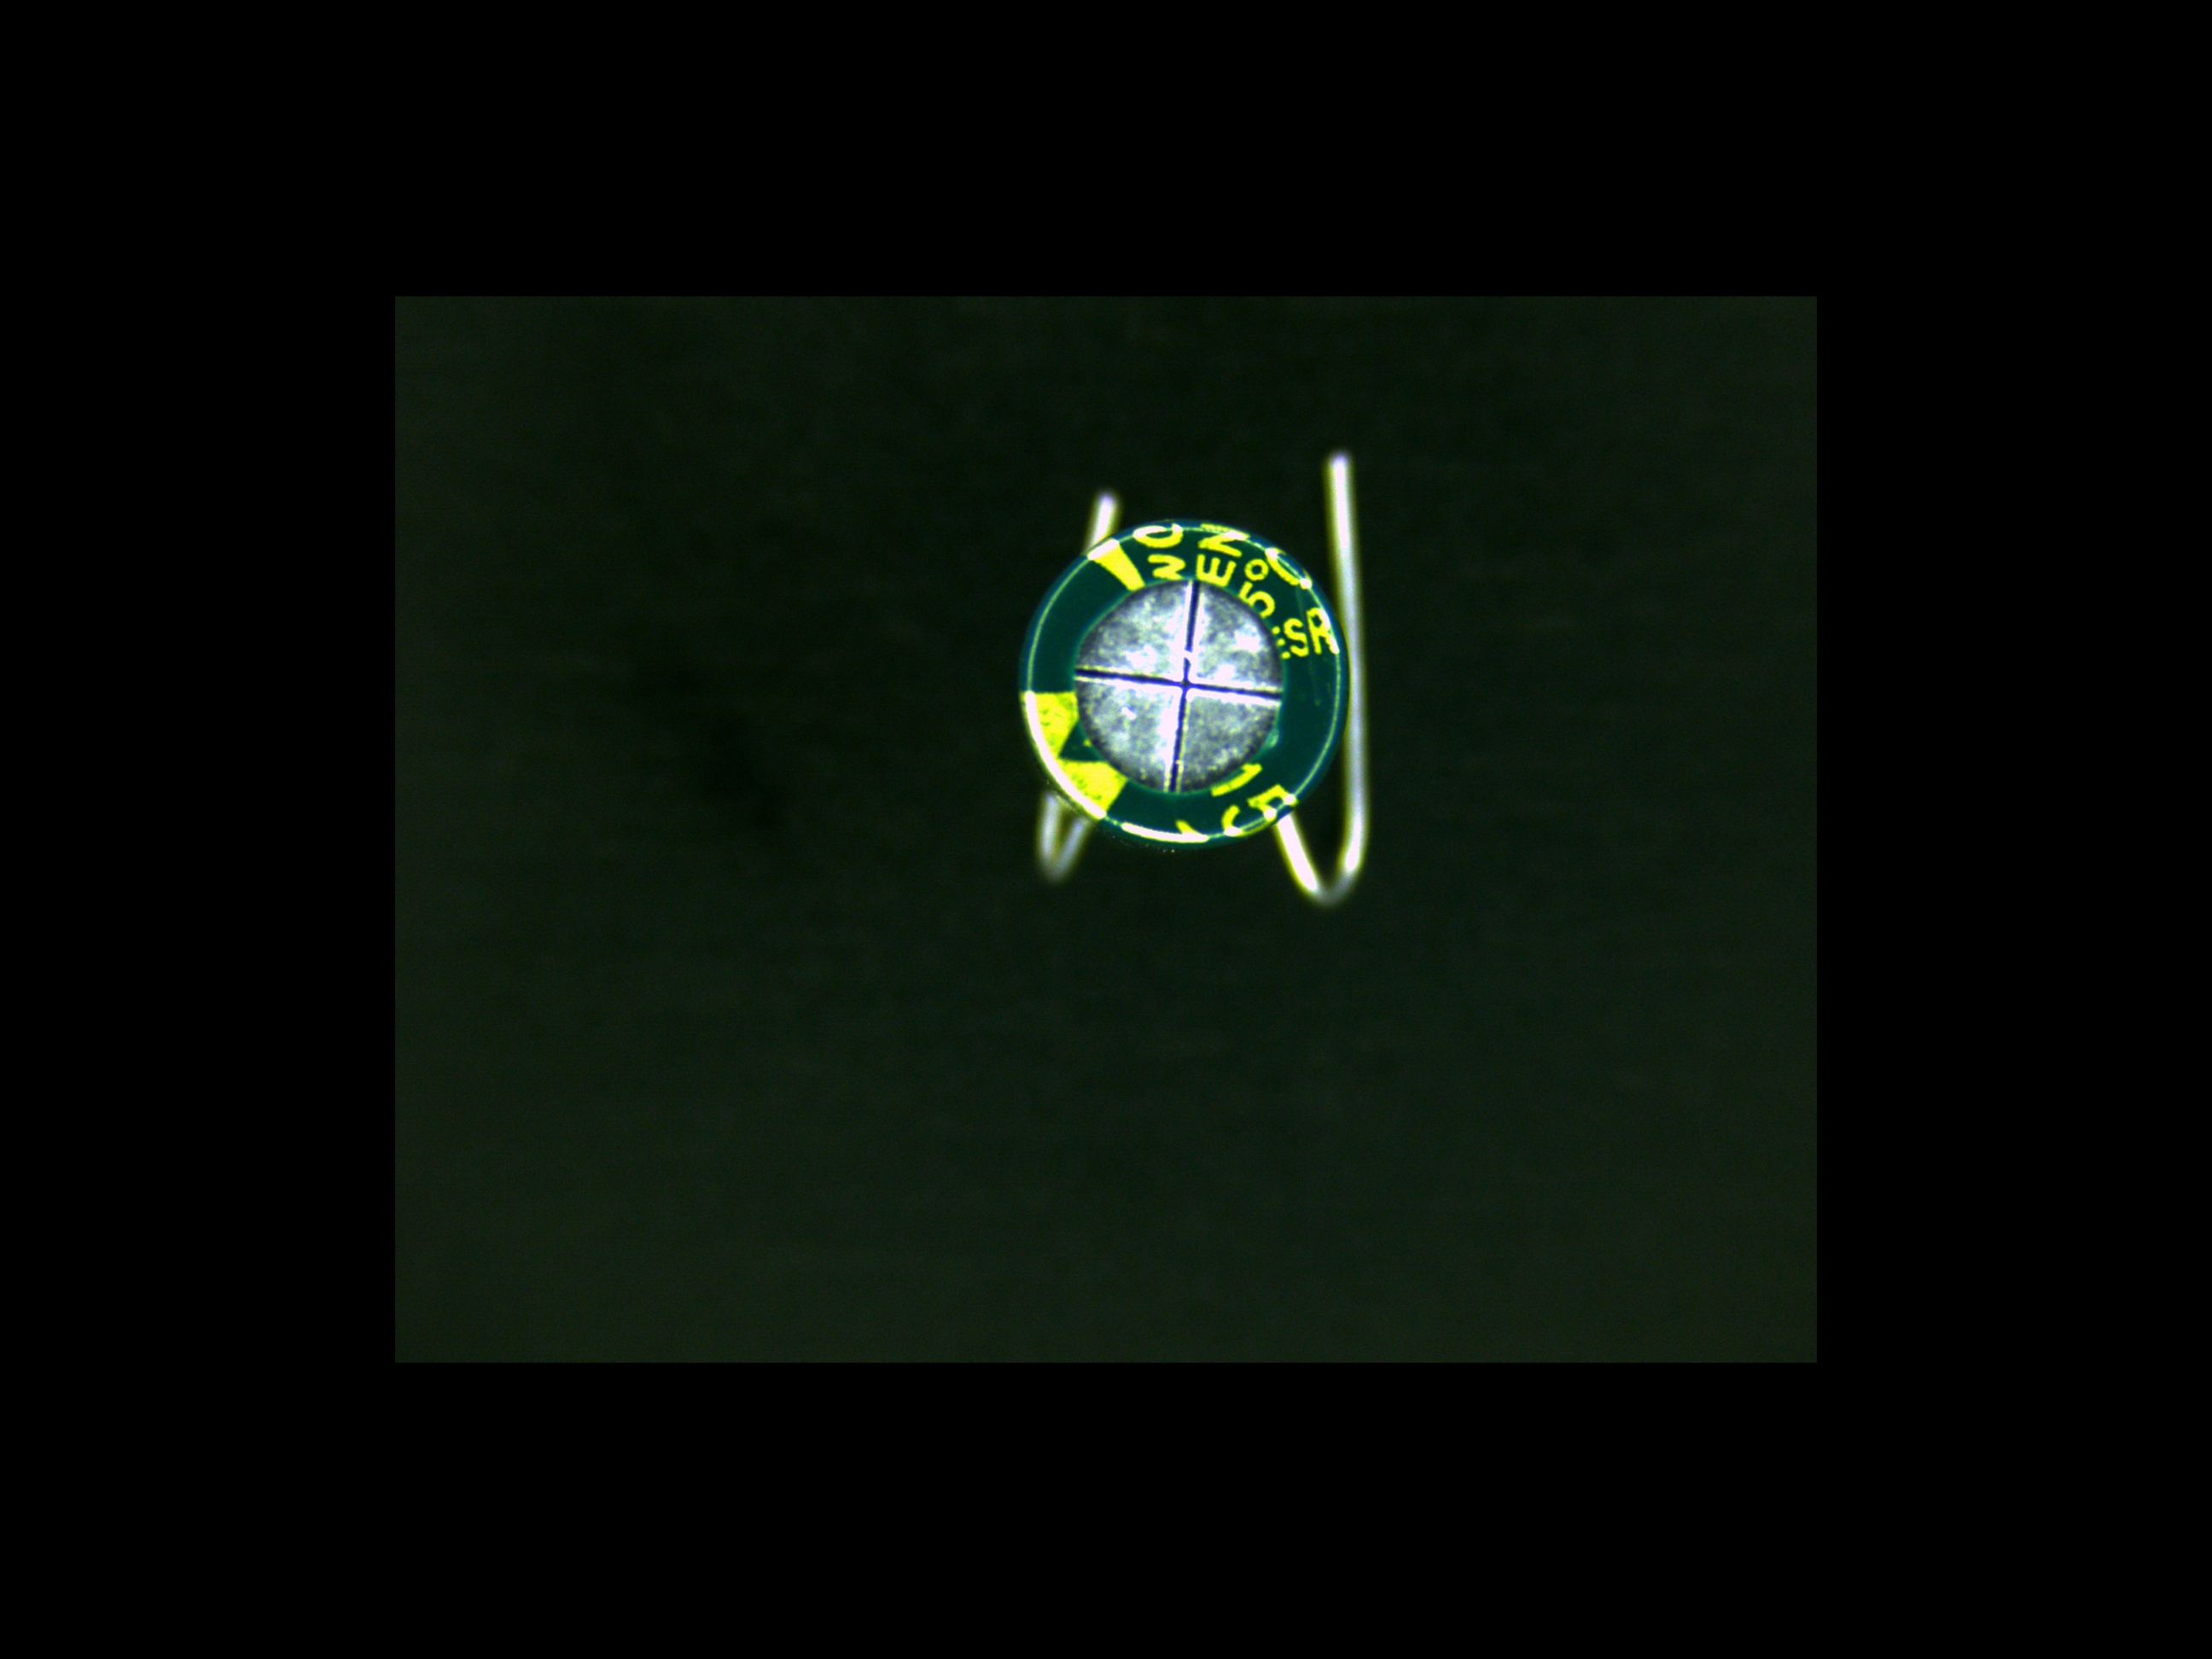c1: (1022, 516, 1350, 849)
